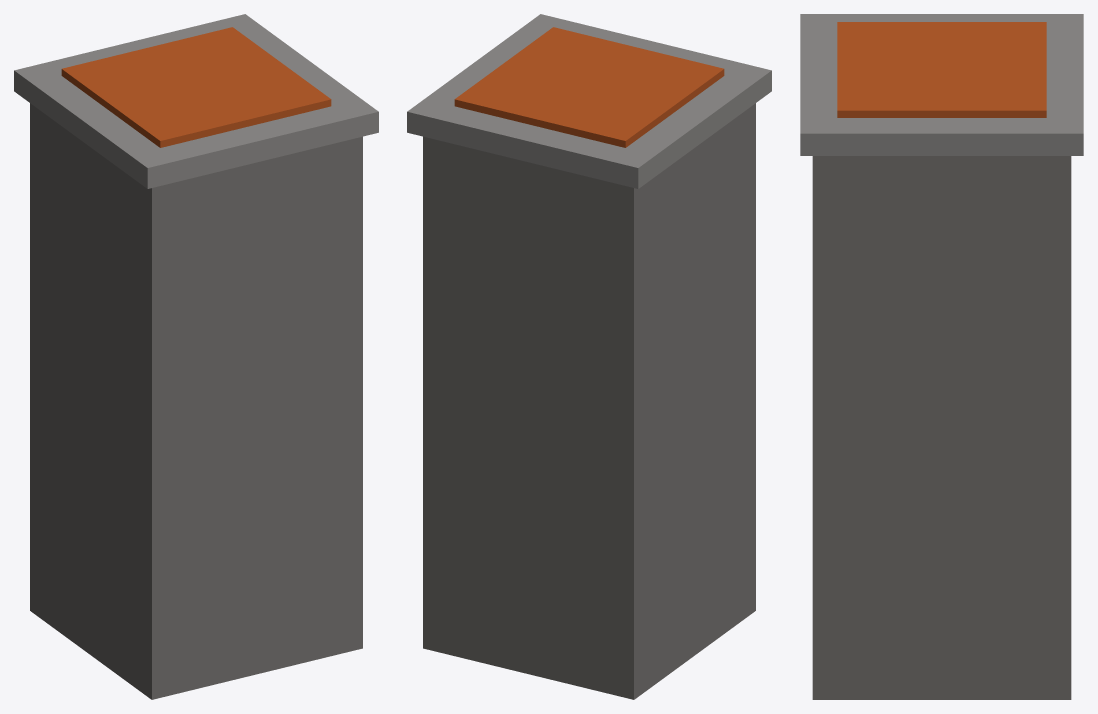
The model's file is B_drain_hatch.glb.
The picture shows the model from 3 angles, left to right: view 1: azimuth 30°, elevation 25°; view 2: azimuth 150°, elevation 25°; view 3: azimuth 270°, elevation 25°; orthographic projection. The views are drawn at different scales.
Parts seen in each view (by area): view 1: Cube.003, Cube, Cube.028, Cube.029, Cube.002; view 2: Cube.001, Cube, Cube.028, Cube.029, Cube.002; view 3: Cube.002, Cube.028, Cube.029.
Part boxes in pixels (x1=…): Cube.003: x1=172, y1=141, x2=342, y2=694; Cube: x1=30, y1=103, x2=171, y2=699; Cube.028: x1=14, y1=14, x2=378, y2=188; Cube.029: x1=61, y1=27, x2=331, y2=147; Cube.002: x1=343, y1=136, x2=362, y2=653; Cube.001: x1=443, y1=141, x2=613, y2=694; Cube: x1=614, y1=103, x2=755, y2=699; Cube.028: x1=407, y1=14, x2=771, y2=188; Cube.029: x1=454, y1=27, x2=724, y2=147; Cube.002: x1=423, y1=136, x2=442, y2=653; Cube.002: x1=812, y1=156, x2=1071, y2=699; Cube.028: x1=800, y1=14, x2=1083, y2=155; Cube.029: x1=837, y1=22, x2=1046, y2=117.
Bounding box in the file's own units: 3.46 × 7.8 × 3.46.
